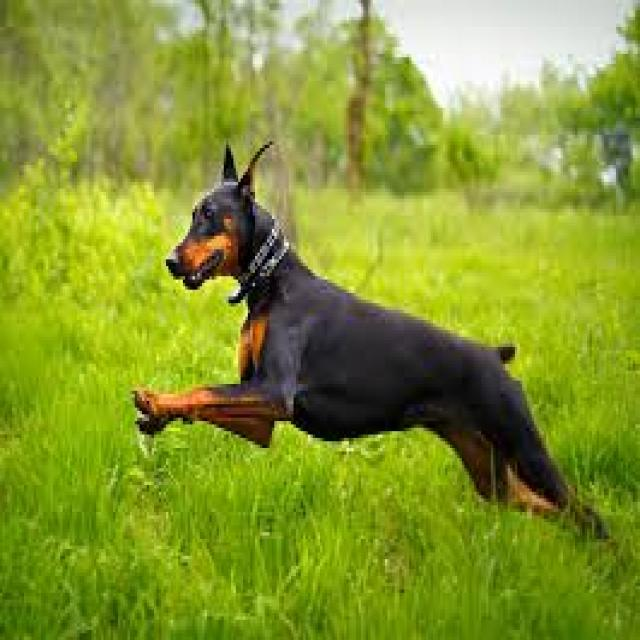Dog: (128, 133, 621, 571)
